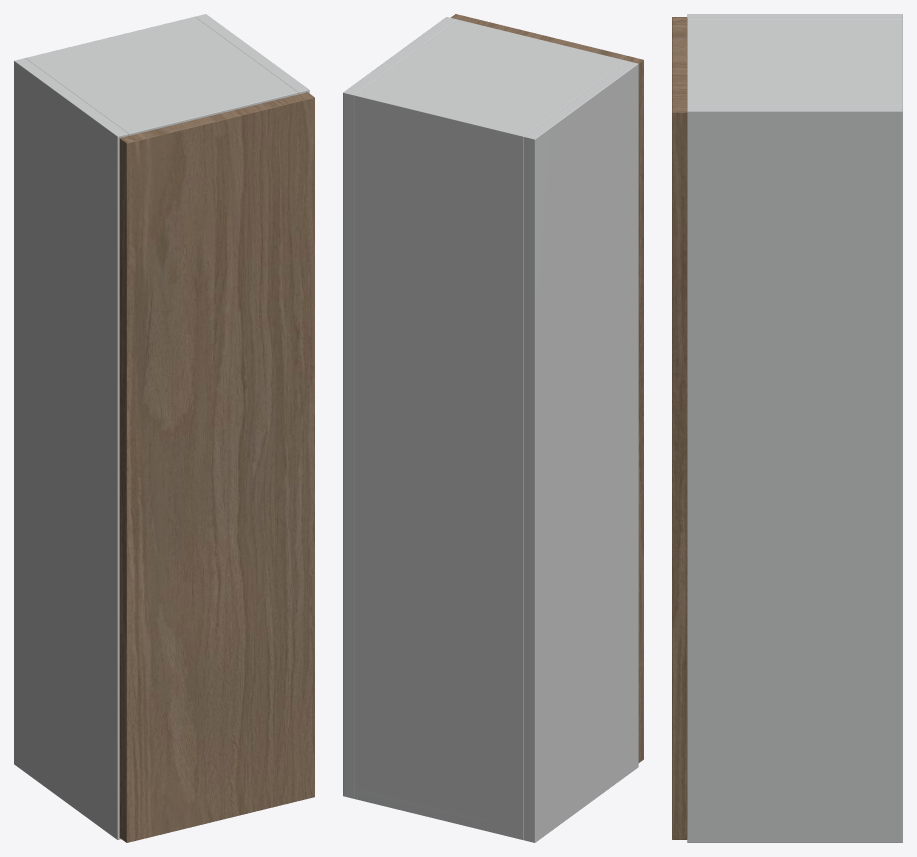
Rendered from oppein-ply-mnw-w1242.glb.
3 views of the same model, side by side, from view 1: azimuth 30°, elevation 25°; view 2: azimuth 150°, elevation 25°; view 3: azimuth 270°, elevation 25° (orthographic). The views are drawn at different scales.
Parts seen in each view (by area): view 1: Door, Cabinet side, Cabinet top, Cabinet side.001; view 2: Cabinet back, Cabinet side, Cabinet top, Cabinet side.001, Door, Cabinet bottom; view 3: Cabinet side.001, Cabinet top, Door, Cabinet side.
Part boxes in pixels (x1,y1,x2,y2): Door: [119, 92, 314, 842]; Cabinet side: [14, 58, 128, 839]; Cabinet top: [25, 16, 298, 135]; Cabinet side.001: [195, 14, 309, 94]; Cabinet back: [354, 96, 523, 840]; Cabinet side: [524, 61, 638, 842]; Cabinet top: [354, 19, 626, 146]; Cabinet side.001: [343, 17, 457, 798]; Door: [451, 14, 643, 762]; Cabinet bottom: [354, 787, 523, 838]; Cabinet side.001: [687, 105, 902, 842]; Cabinet top: [687, 19, 902, 105]; Door: [672, 17, 687, 839]; Cabinet side: [687, 14, 902, 19].
Bounding box in the file's own units: 0.3048 × 1.07 × 0.3048.
2 materials, 1 textured.
